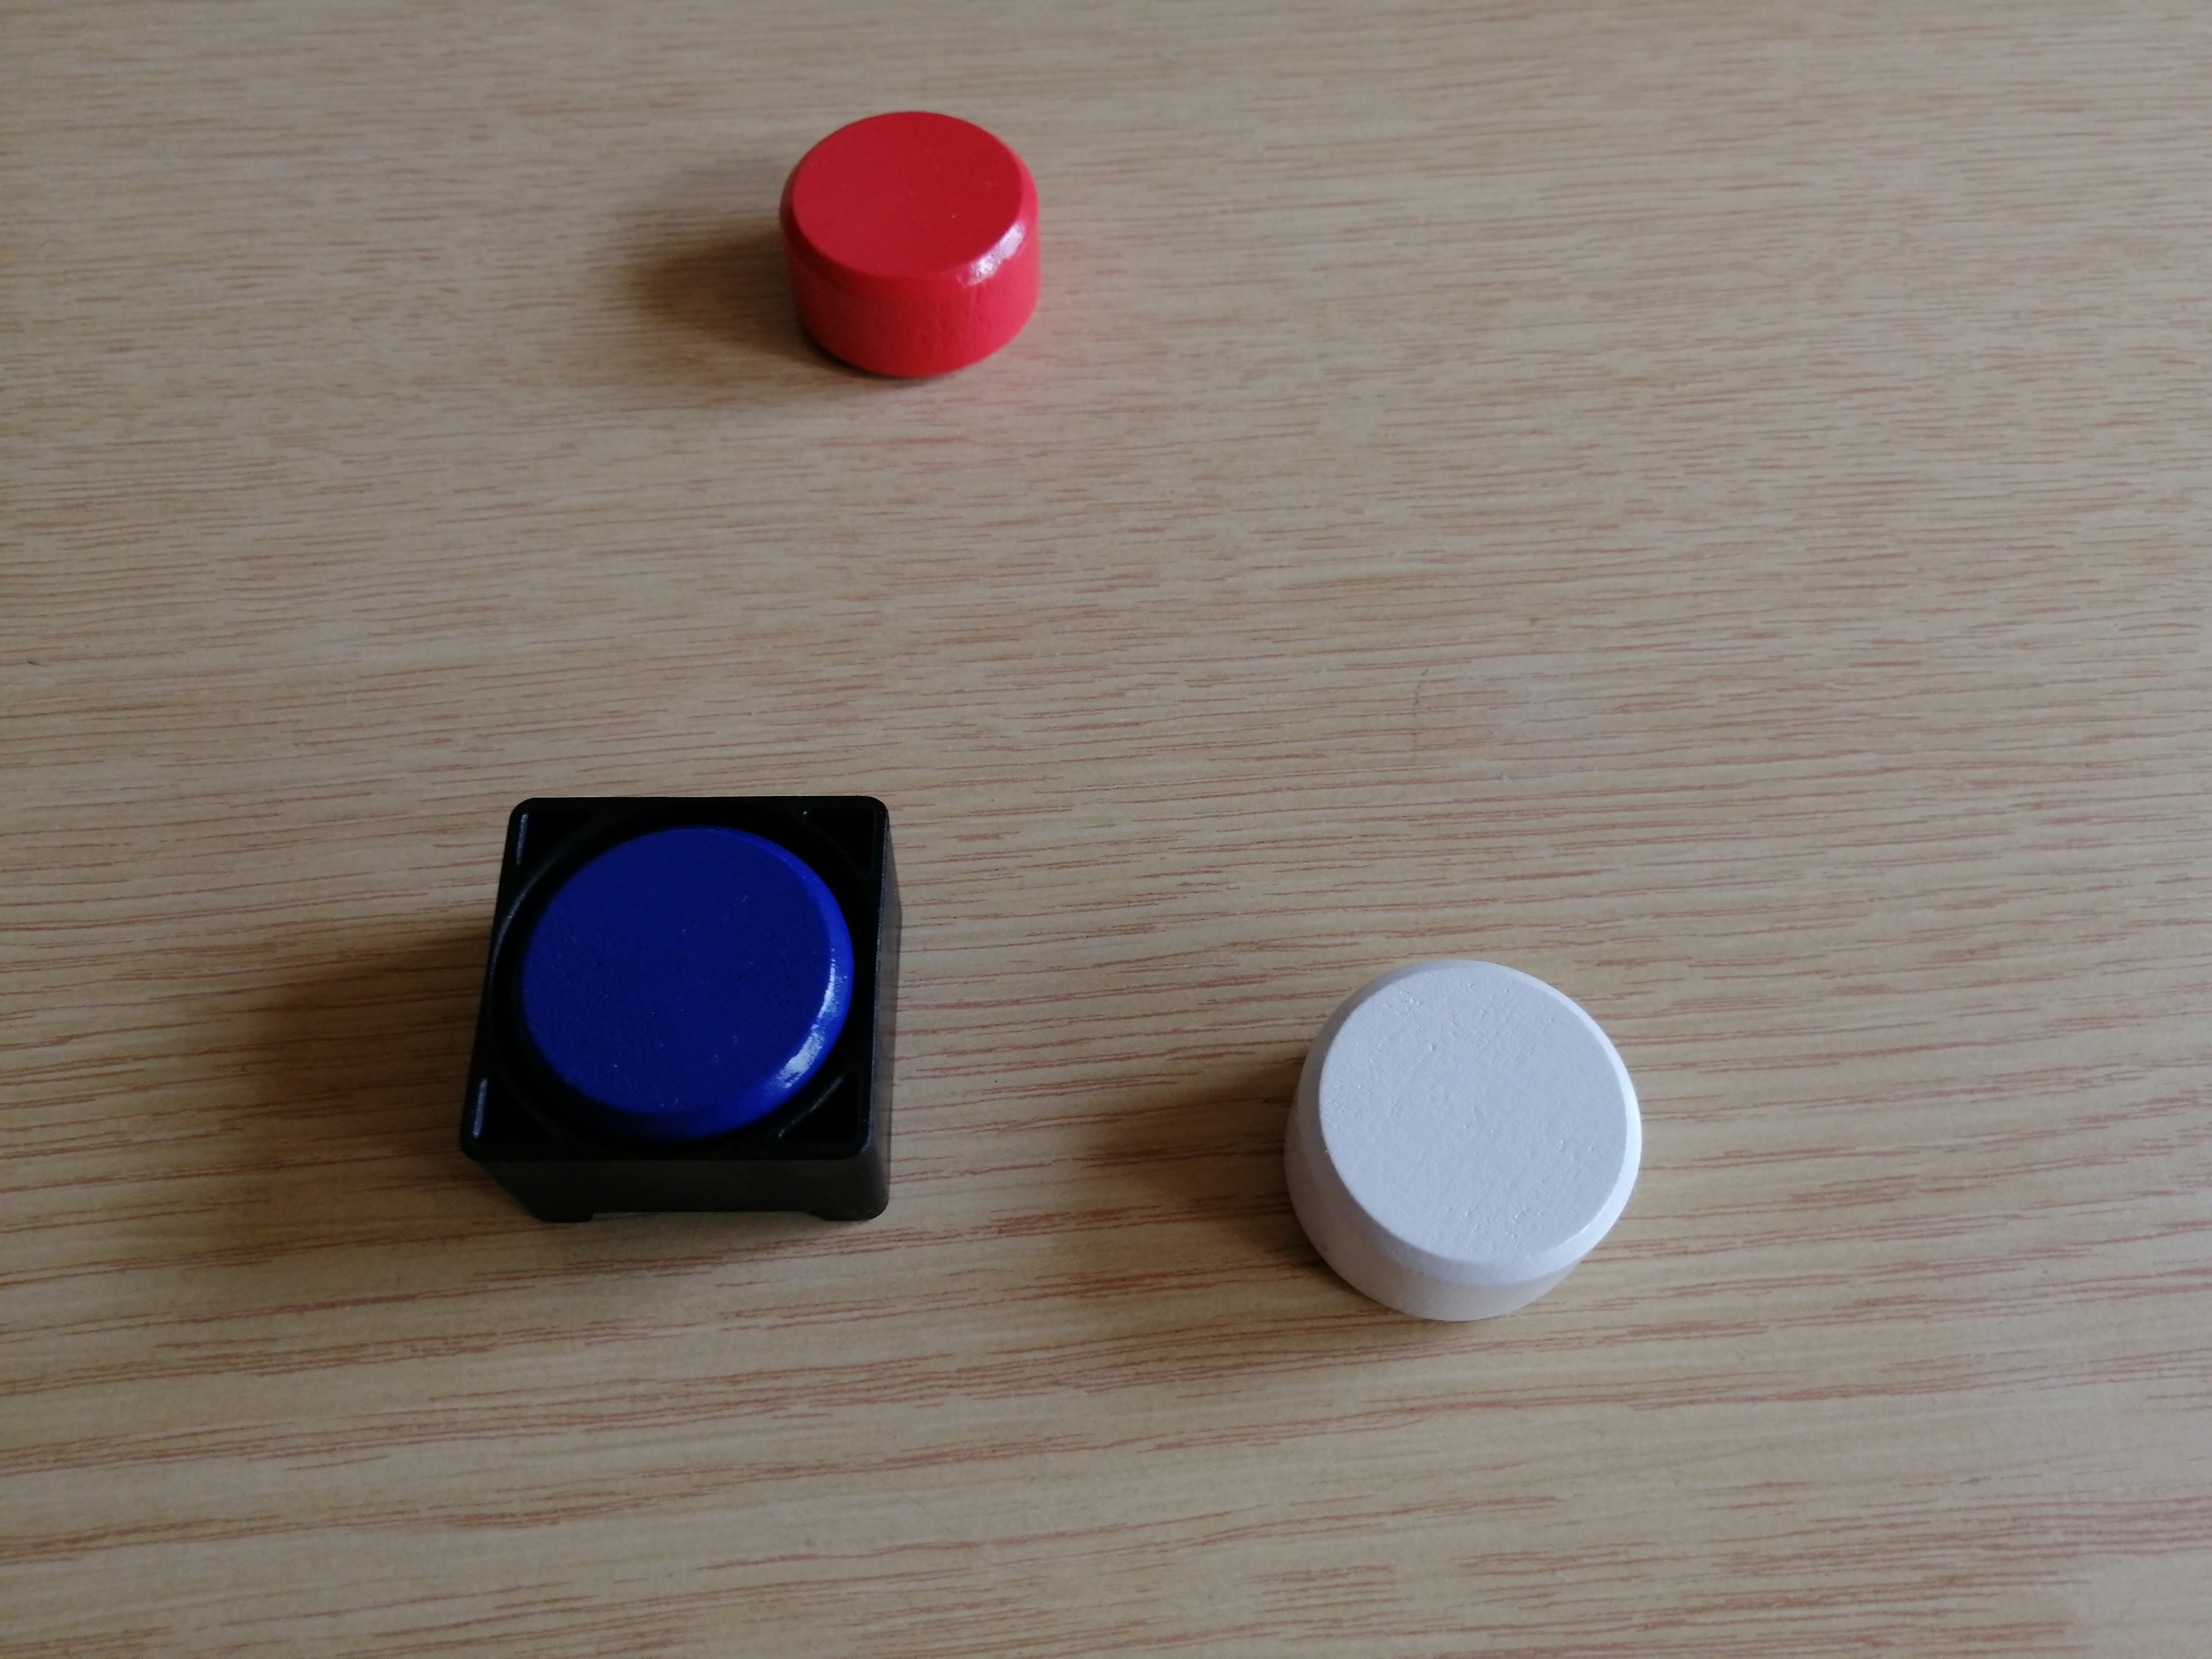Behaelter: (469, 798, 902, 1215)
WerkStueck: (1268, 957, 1644, 1328), (505, 821, 860, 1150), (780, 108, 1043, 380)
